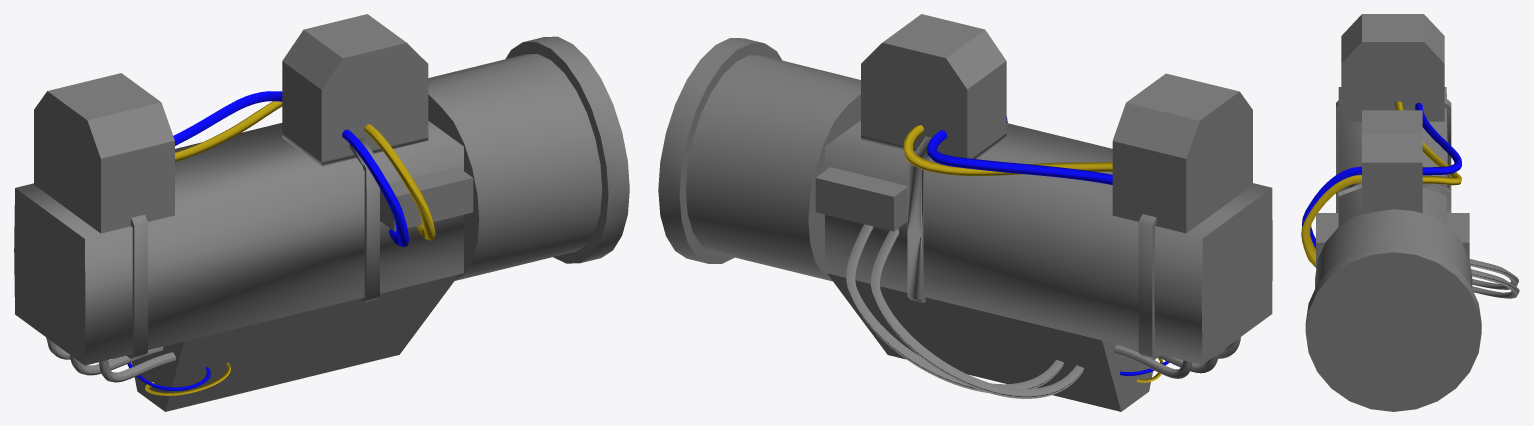
Rendered from SM_ventmachinee.FBX.
The picture shows the model from 3 angles, left to right: view 1: azimuth 30°, elevation 25°; view 2: azimuth 150°, elevation 25°; view 3: azimuth 270°, elevation 25°; orthographic projection. The views are drawn at different scales.
Parts seen in each view (by area): view 1: SM_ventmachinee_LOD0; view 2: SM_ventmachinee_LOD0; view 3: SM_ventmachinee_LOD0.
Boxes of the visible parts, left/top/right/bottom form: SM_ventmachinee_LOD0: left=14, top=14, right=629, bottom=411; SM_ventmachinee_LOD0: left=658, top=14, right=1272, bottom=411; SM_ventmachinee_LOD0: left=1301, top=14, right=1519, bottom=411.
Size of what is drawn, in the model's own units: 236 by 137 by 111.
